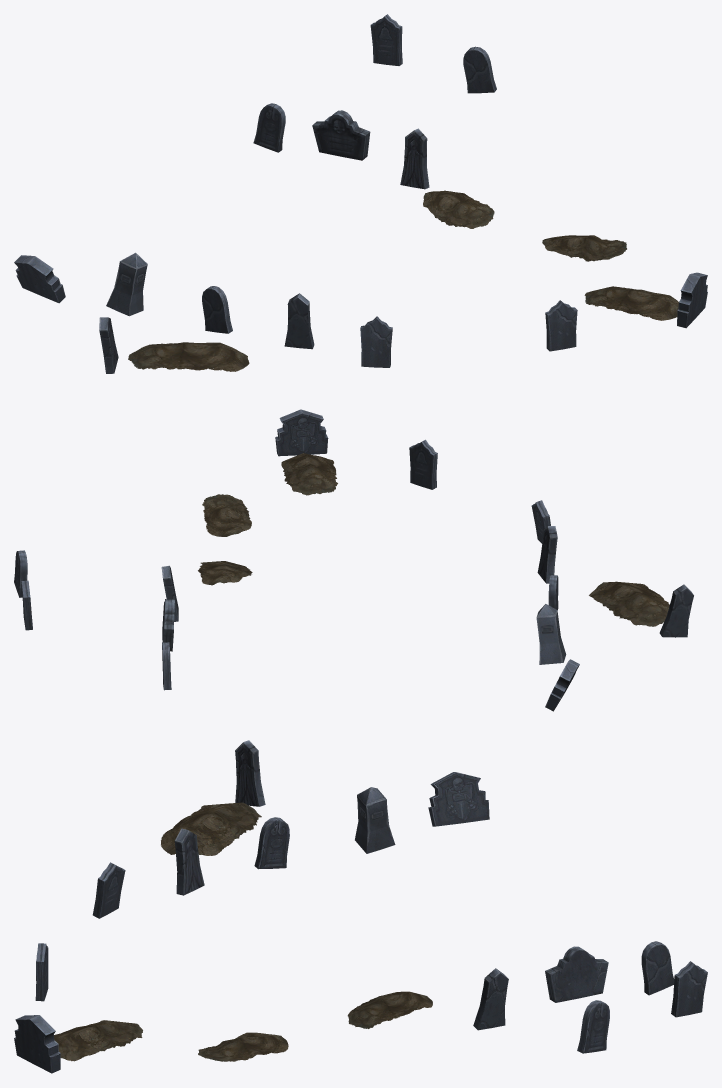
Rendered from object_graves.fbx.
3 renders of one model, top to bottom at view 1: azimuth 30°, elevation 25°; view 2: azimuth 150°, elevation 25°; view 3: azimuth 270°, elevation 25°, orthographic. The views are drawn at different scales.
Parts seen in each view (by area): view 1: Material_#238683260/cemetary_01_mat; view 2: Material_#238683260/cemetary_01_mat; view 3: Material_#238683260/cemetary_01_mat.
Boxes of the visible parts, x1=… form: Material_#238683260/cemetary_01_mat: x1=14, y1=14, x2=707, y2=373; Material_#238683260/cemetary_01_mat: x1=14, y1=409, x2=693, y2=711; Material_#238683260/cemetary_01_mat: x1=14, y1=740, x2=707, y2=1073.
Size of the model in its own units: 20.32 by 3.29 by 20.04.
